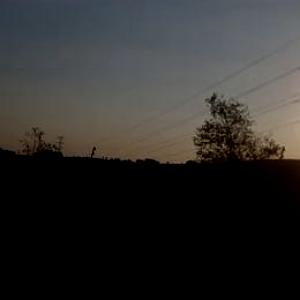follow: (86, 186, 149, 299)
